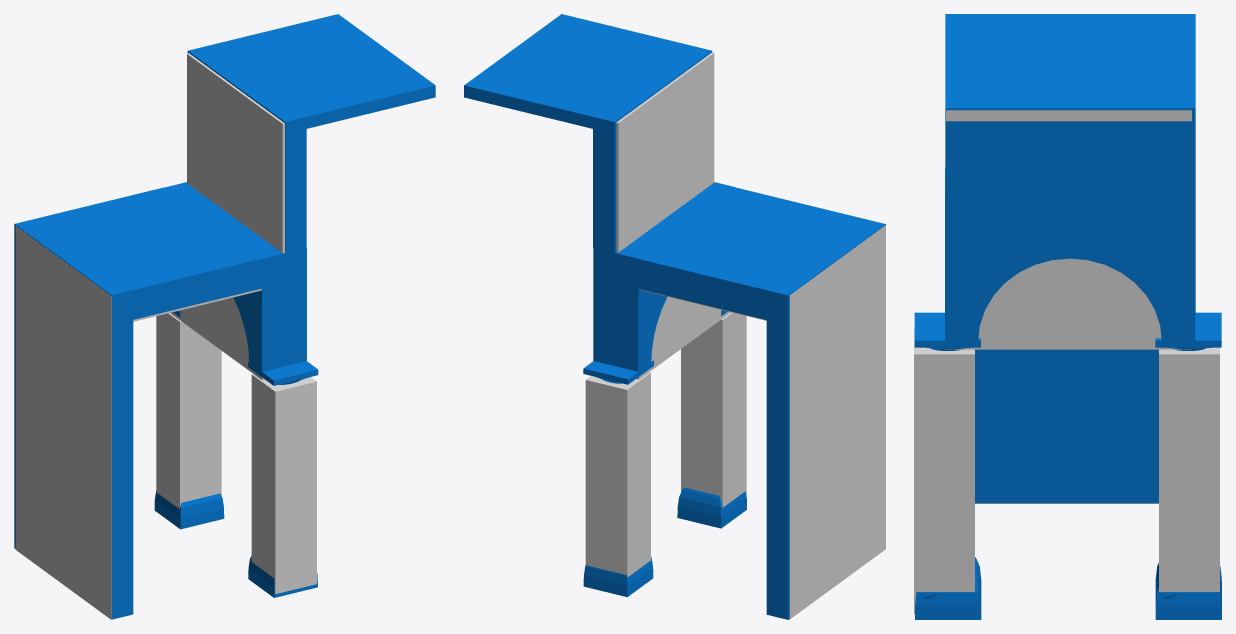
The model's file is Rod.gltf.
The picture shows the model from 3 angles, left to right: view 1: azimuth 30°, elevation 25°; view 2: azimuth 150°, elevation 25°; view 3: azimuth 270°, elevation 25°; orthographic projection. The views are drawn at different scales.
Parts seen in each view (by area): view 1: COL.002, Pedestal.001; view 2: COL.002, Pedestal.001; view 3: Pedestal.001, COL.002.
Part boxes in pixels (x1=…): COL.002: x1=15, y1=53, x2=316, y2=619; Pedestal.001: x1=14, y1=14, x2=435, y2=619; COL.002: x1=585, y1=52, x2=885, y2=619; Pedestal.001: x1=464, y1=14, x2=885, y2=619; Pedestal.001: x1=914, y1=14, x2=1221, y2=619; COL.002: x1=914, y1=110, x2=1219, y2=614.
Bounding box in the file's own units: 30 × 40.83 × 19.22.
